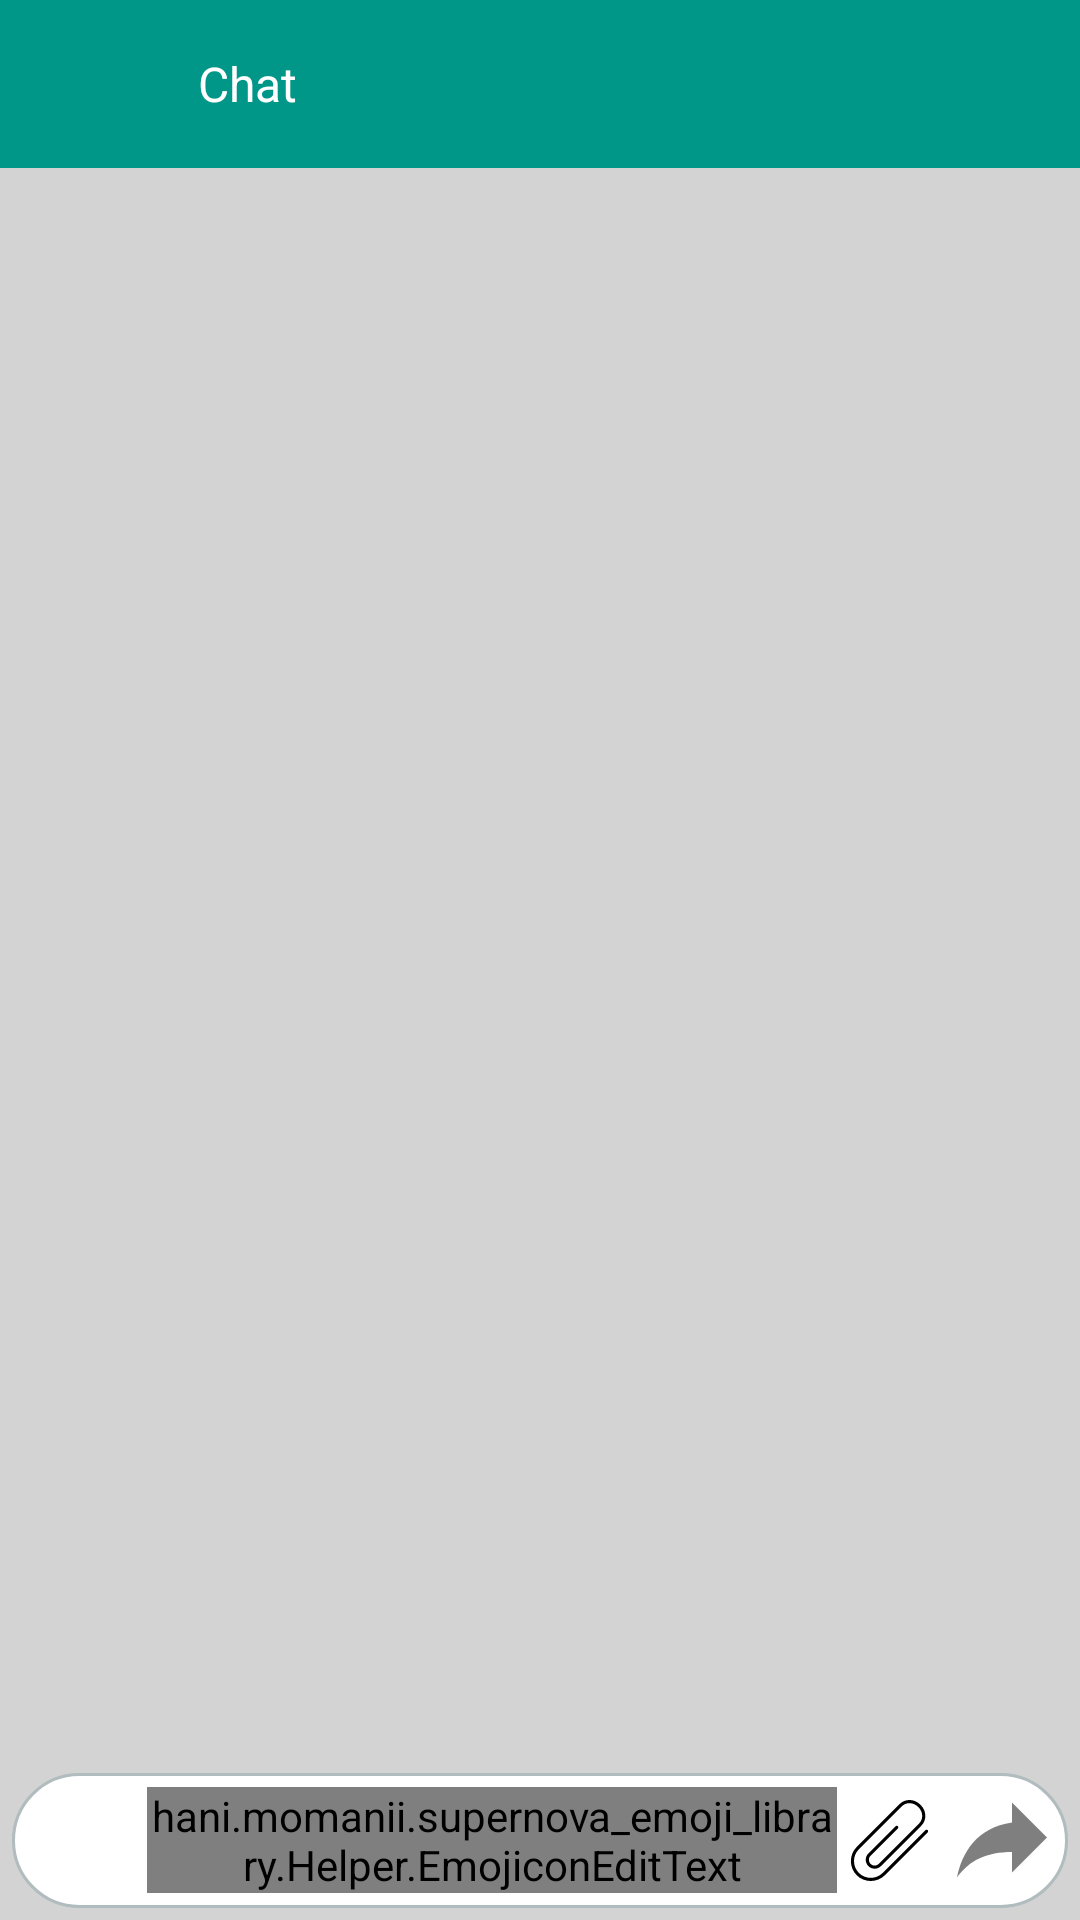

Icons on this 1080w x 1920h Android screen, each with its box as [x1, y1, x2, y2]:
attach: [851, 1800, 928, 1881]
forward: [957, 1803, 1047, 1877]
